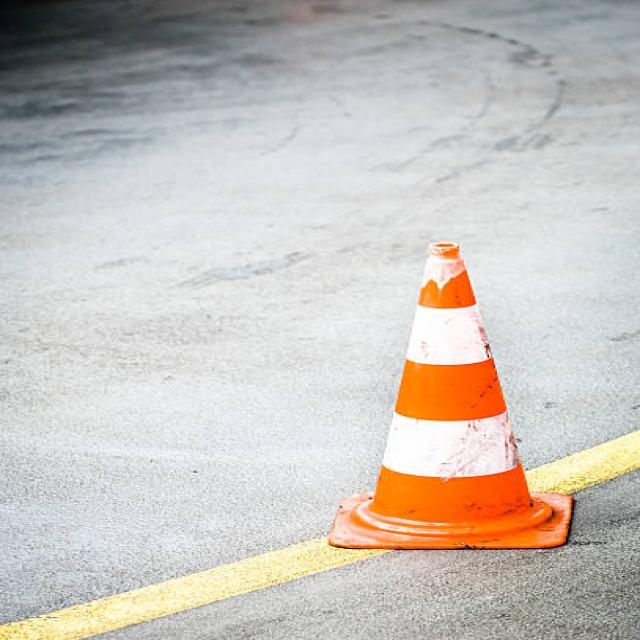Traffic Cone: (312, 216, 595, 574)
